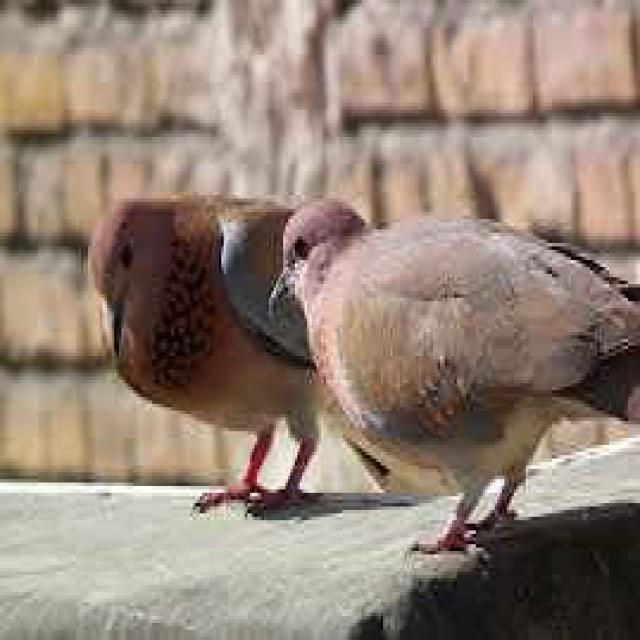dove: (264, 191, 640, 562), (90, 176, 347, 527)
